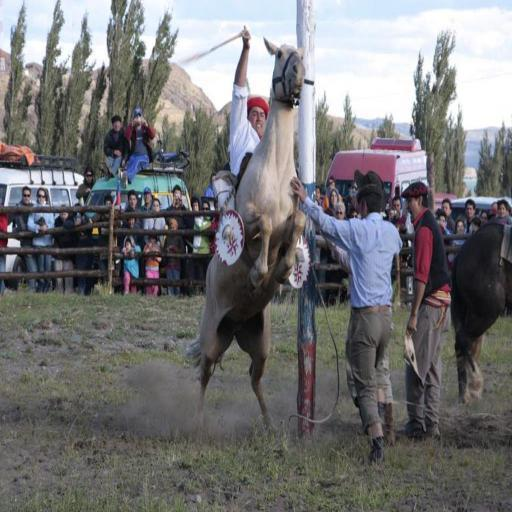horse: (185, 32, 306, 443), (448, 213, 512, 407)
